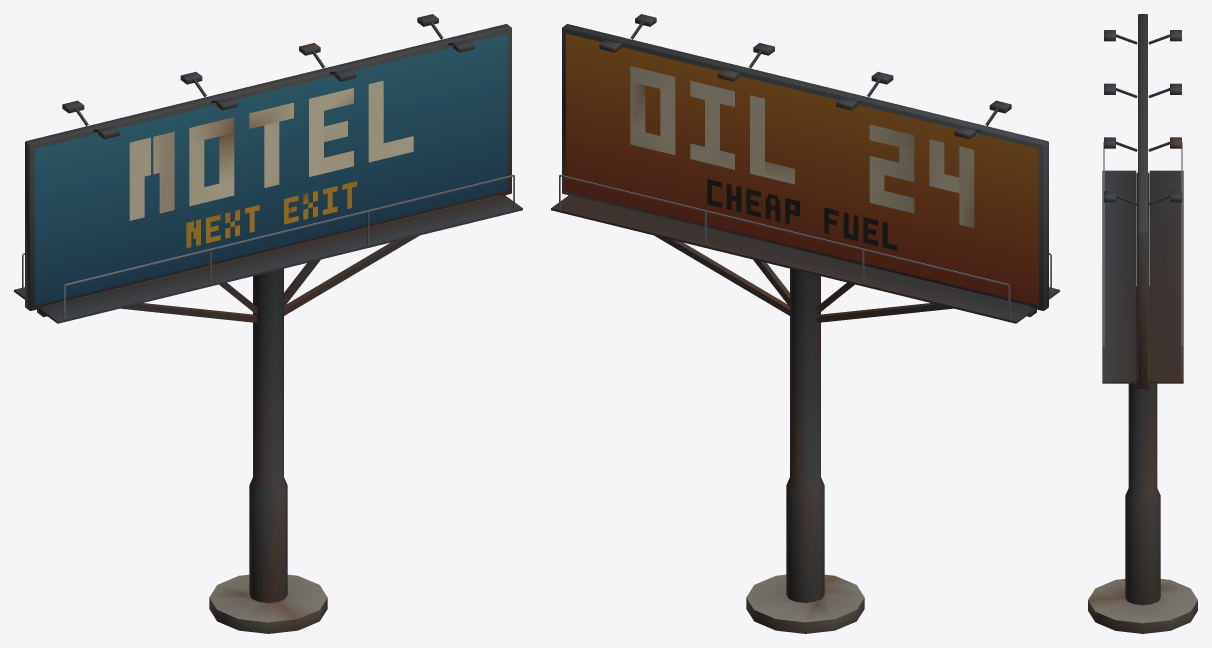
File: billboard_b.glb
The picture shows the model from 3 angles, left to right: view 1: azimuth 30°, elevation 25°; view 2: azimuth 150°, elevation 25°; view 3: azimuth 270°, elevation 25°; orthographic projection. The views are drawn at different scales.
Visible parts, largest first — view 1: BillboardB; view 2: BillboardB; view 3: BillboardB.
Boxes of the visible parts, bbox=[...] form: BillboardB: bbox=[14, 14, 522, 633]; BillboardB: bbox=[551, 14, 1059, 633]; BillboardB: bbox=[1088, 14, 1197, 633].
Size of the model in its own units: 12.24 by 12.97 by 2.6.
